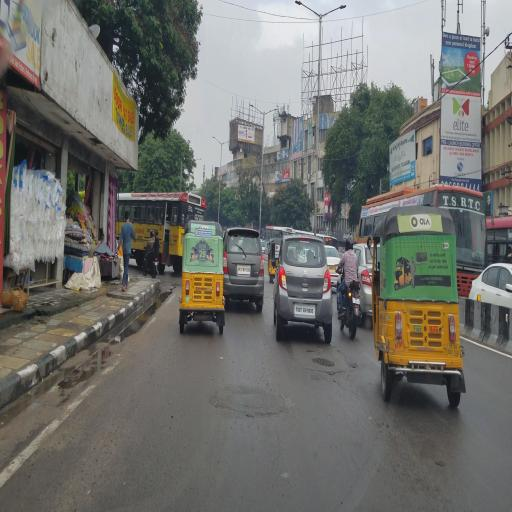street_light_0: (293, 0, 322, 28), (320, 3, 348, 31), (248, 98, 266, 120), (263, 104, 281, 125), (211, 132, 222, 152), (222, 129, 232, 151)
